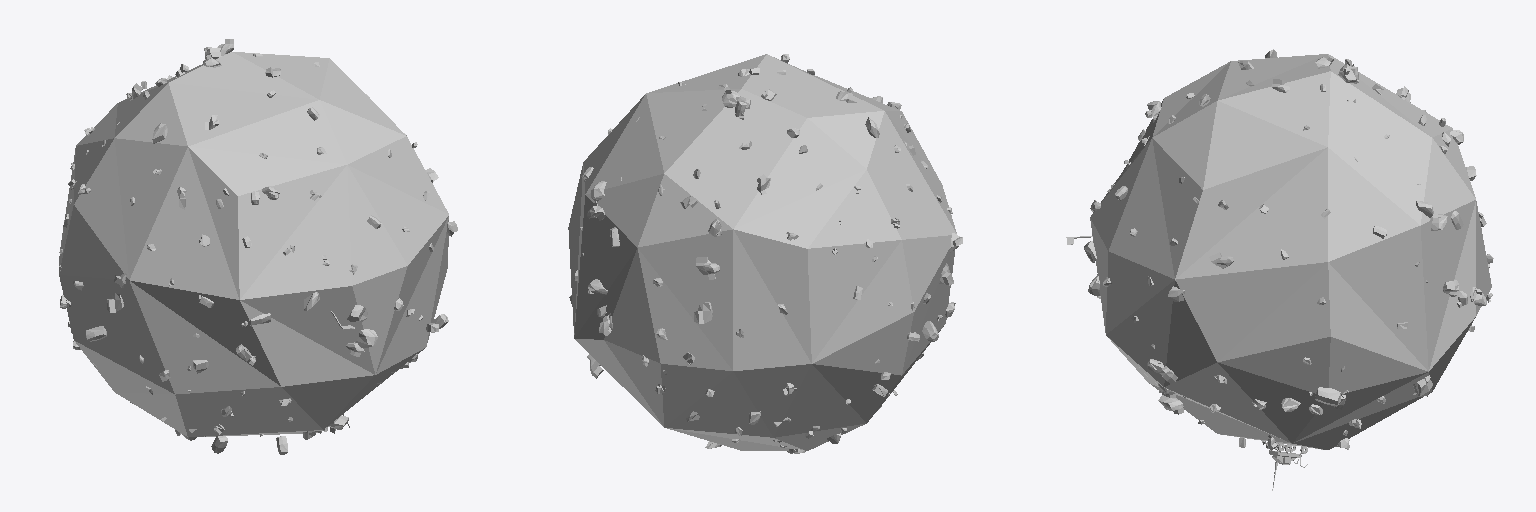
File: planet.obj
3 renders of one model, left to right at view 1: azimuth 30°, elevation 25°; view 2: azimuth 150°, elevation 25°; view 3: azimuth 270°, elevation 25°, orthographic.
Parts seen in each view (by area): view 1: planet.004; view 2: planet.004; view 3: planet.004.
Boxes of the visible parts, x1=… form: planet.004: x1=59, y1=39, x2=457, y2=454; planet.004: x1=568, y1=54, x2=962, y2=453; planet.004: x1=1066, y1=49, x2=1493, y2=490.
Size of the model in its own units: 2.02 by 2.12 by 2.15.